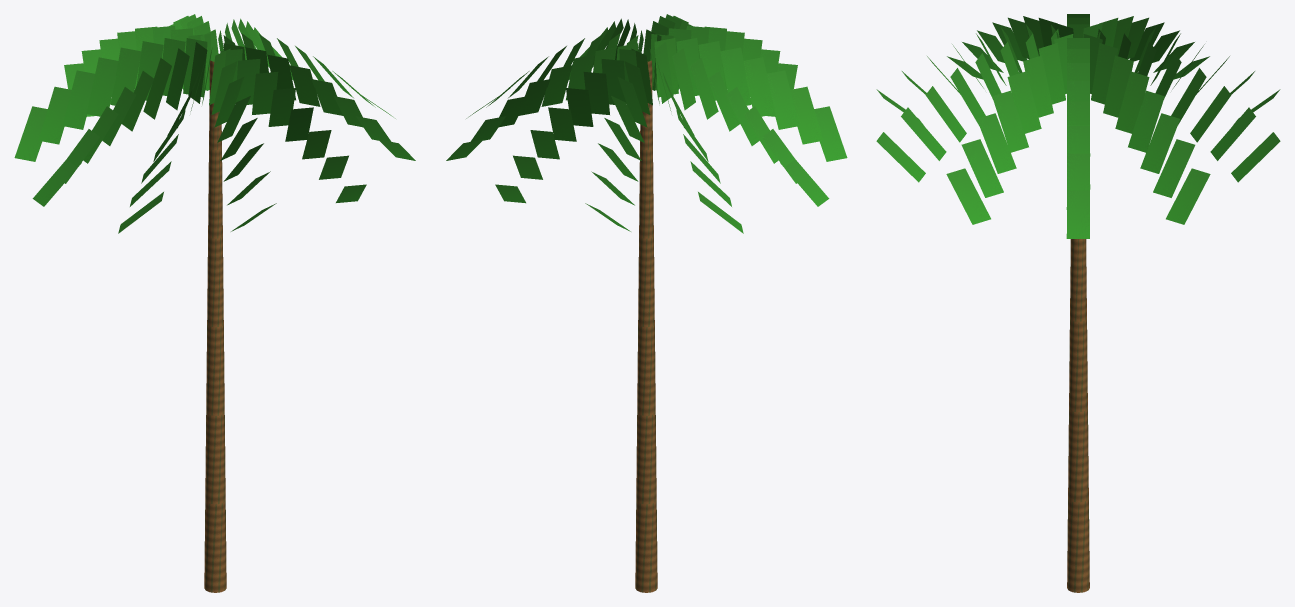
Rendered from palm_tree_realistic.glb.
3 renders of one model, left to right at view 1: azimuth 30°, elevation 25°; view 2: azimuth 150°, elevation 25°; view 3: azimuth 270°, elevation 25°, orthographic. The views are drawn at different scales.
Visible parts, largest first — view 1: leaves, trunk; view 2: leaves, trunk; view 3: leaves, trunk.
Boxes of the visible parts, x1=… form: leaves: x1=14, y1=14, x2=415, y2=233; trunk: x1=204, y1=60, x2=226, y2=592; leaves: x1=446, y1=14, x2=847, y2=233; trunk: x1=635, y1=60, x2=657, y2=592; leaves: x1=876, y1=14, x2=1280, y2=238; trunk: x1=1067, y1=239, x2=1089, y2=592.
Size of the model in its own units: 8.06 by 11.87 by 7.81.
Materials: 2 (2 with a texture image).
